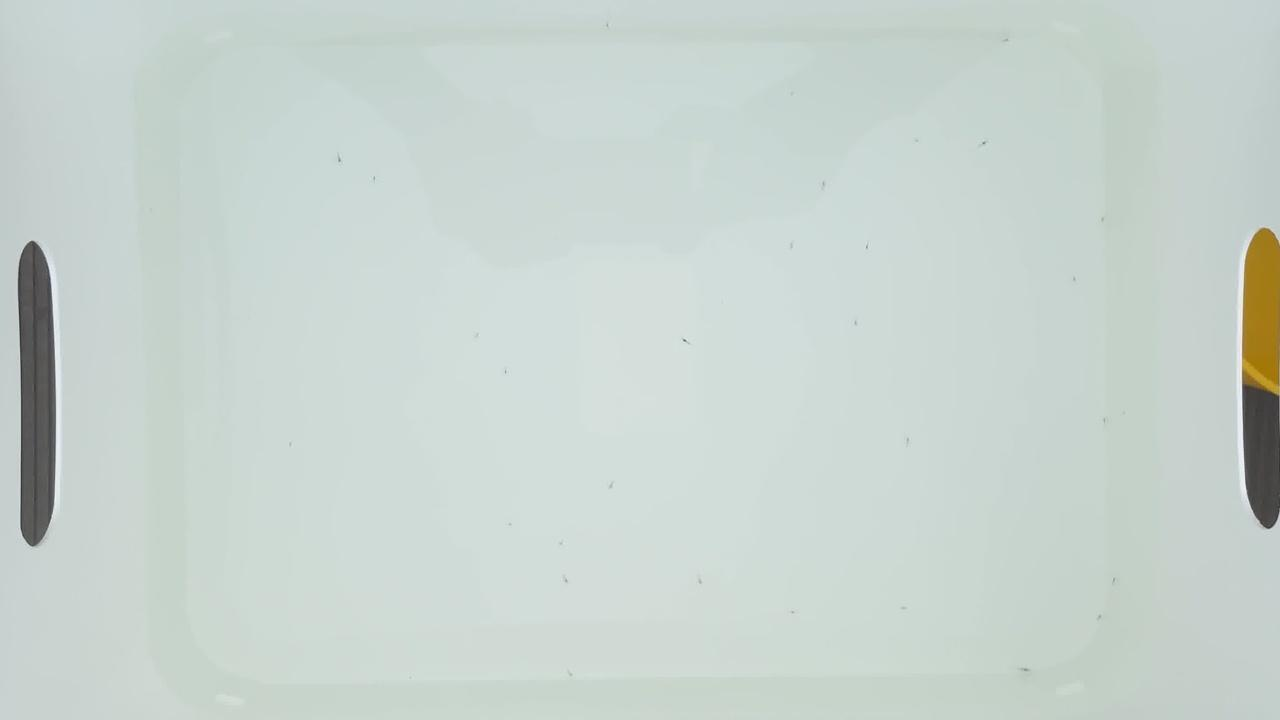shrimp: (1003, 34, 1015, 42), (978, 140, 990, 148), (911, 137, 923, 145), (817, 180, 829, 188), (786, 246, 798, 254), (679, 337, 691, 345), (850, 320, 862, 328), (860, 243, 872, 251), (1066, 275, 1078, 283), (1098, 215, 1110, 223), (1101, 417, 1113, 425), (901, 438, 913, 446), (606, 481, 618, 489), (504, 369, 516, 377), (472, 336, 484, 344), (1109, 576, 1121, 584), (1095, 614, 1107, 622), (1018, 667, 1030, 675), (897, 605, 909, 613), (787, 609, 799, 617), (696, 579, 708, 587), (561, 577, 573, 585), (556, 541, 568, 549), (567, 670, 579, 678), (507, 523, 519, 531), (285, 442, 297, 450), (372, 175, 384, 183), (331, 157, 343, 165), (599, 22, 611, 30)
